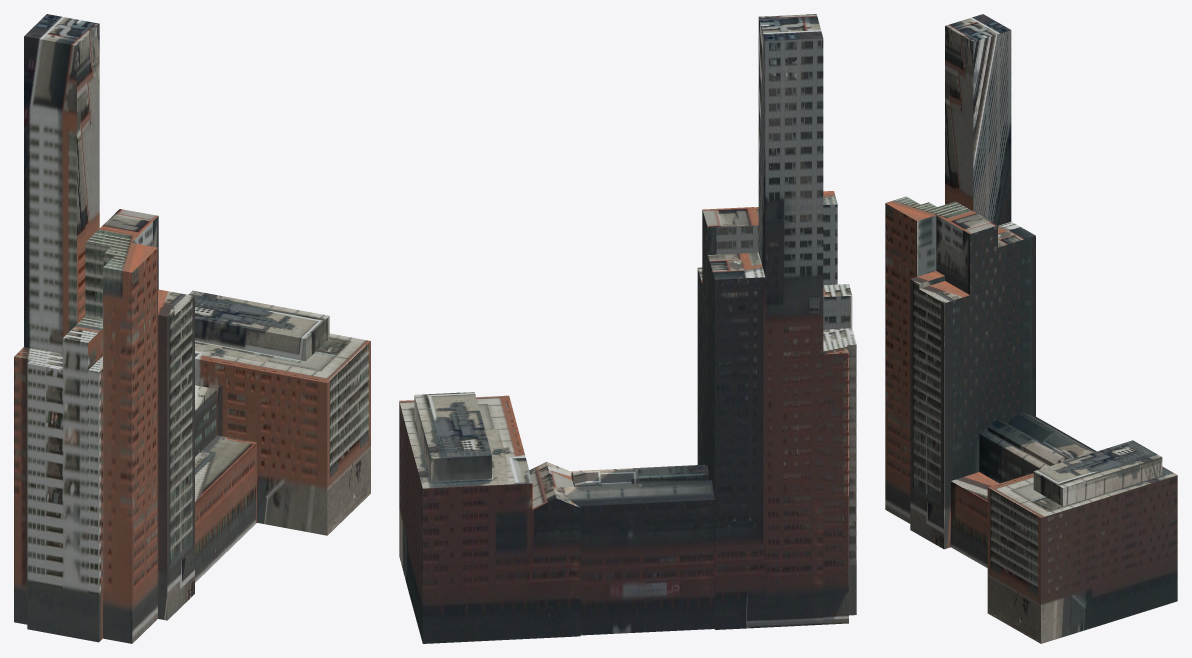
File: {0BFED98A-4F95-4317-A9C4-CD8F0D69FF6C}.dae
3 views of the same model, side by side, from view 1: azimuth 30°, elevation 25°; view 2: azimuth 150°, elevation 25°; view 3: azimuth 270°, elevation 25° (orthographic). The views are drawn at different scales.
Size of the model in its own units: 98.3 by 75.48 by 136.
29 materials, 28 textured.
